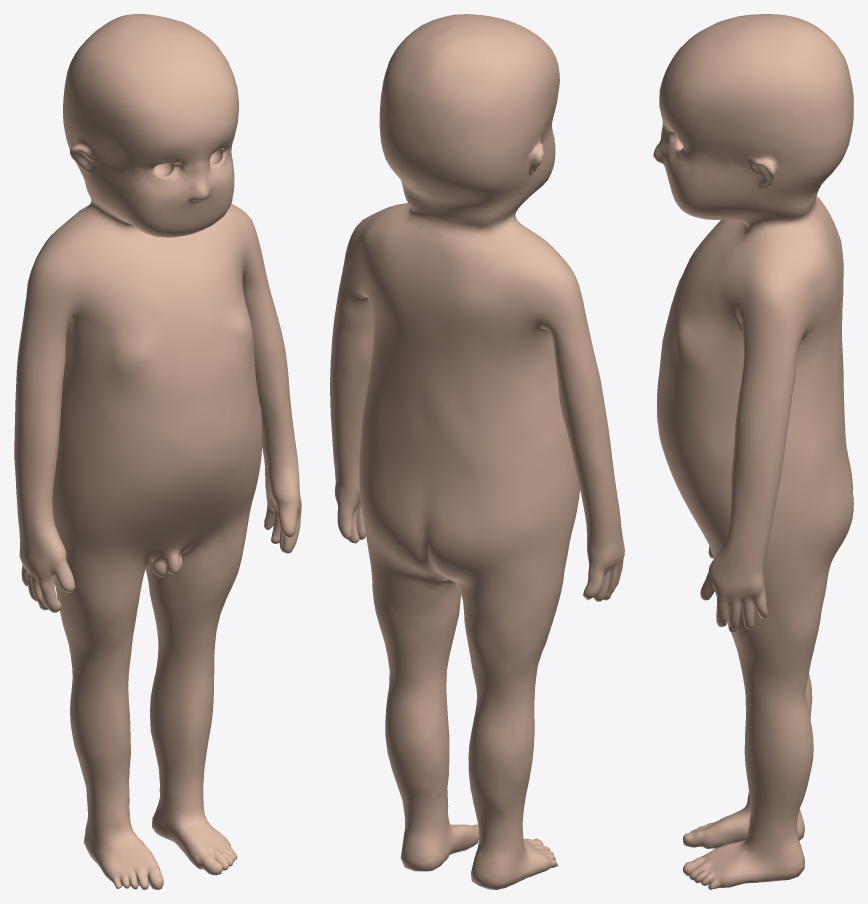
Rendered from pediatric_infant_male.surface.LOD0.glb.
3 renders of one model, left to right at view 1: azimuth 30°, elevation 25°; view 2: azimuth 150°, elevation 25°; view 3: azimuth 270°, elevation 25°, orthographic. The views are drawn at different scales.
Parts seen in each view (by area): view 1: PEDIATRIC.INFANT.MALE.SURFACE.SKIN; view 2: PEDIATRIC.INFANT.MALE.SURFACE.SKIN; view 3: PEDIATRIC.INFANT.MALE.SURFACE.SKIN.
Part boxes in pixels (x1,y1,x2,y2): PEDIATRIC.INFANT.MALE.SURFACE.SKIN: [14, 14, 301, 889]; PEDIATRIC.INFANT.MALE.SURFACE.SKIN: [330, 14, 624, 889]; PEDIATRIC.INFANT.MALE.SURFACE.SKIN: [653, 14, 853, 889].
Size of the model in its own units: 0.2612 by 0.76 by 0.1654.
